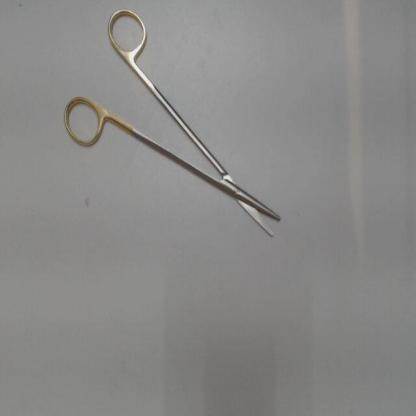7 Metzenbaum Scissors: (60, 6, 286, 244)
